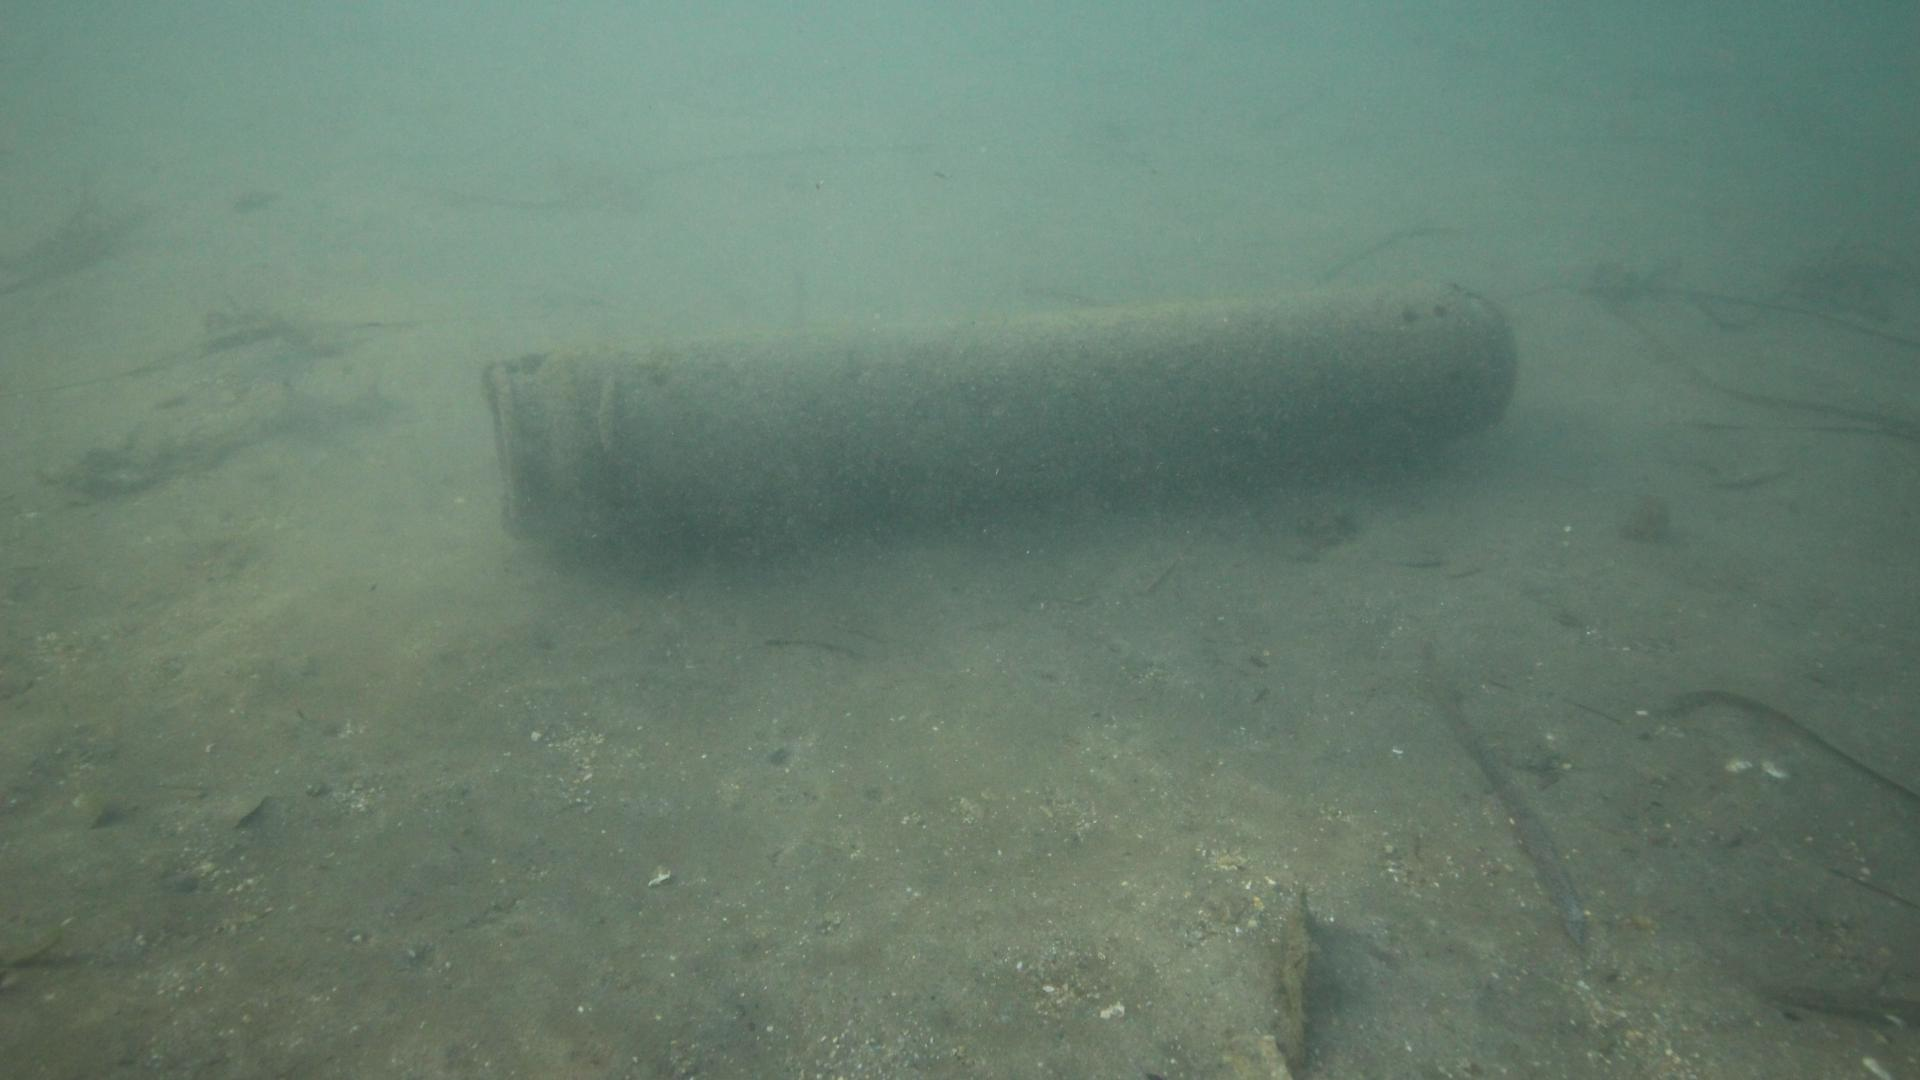eel fish trap: (484, 280, 1516, 543)
